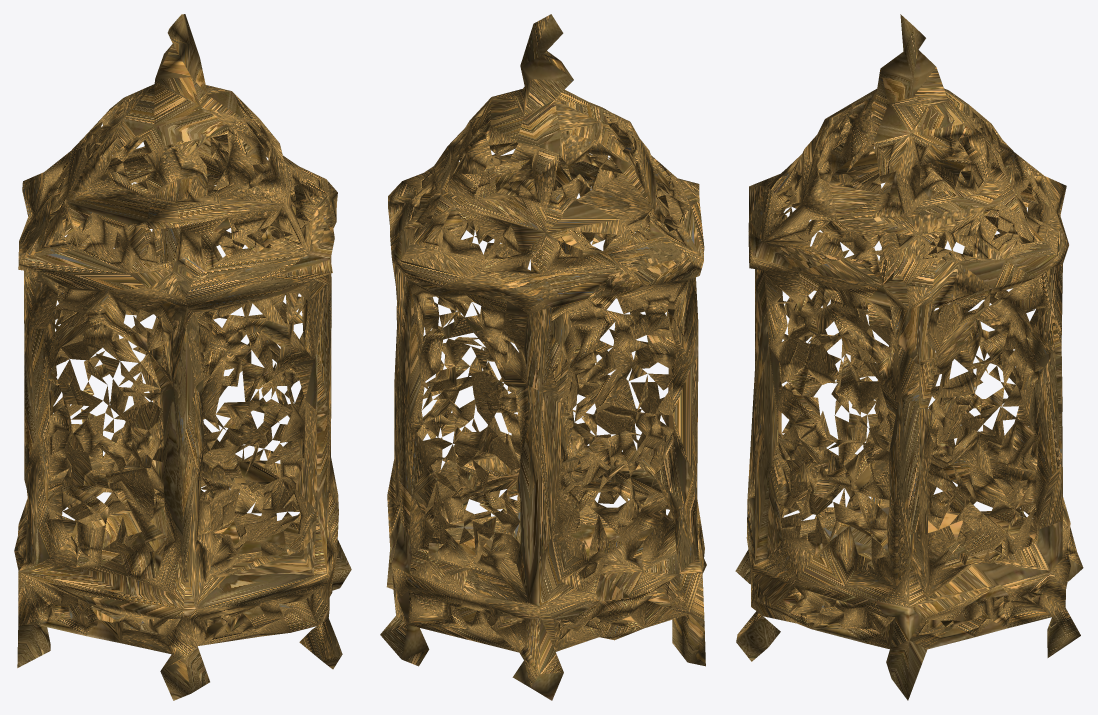
The model's file is lantern.glb.
The picture shows the model from 3 angles, left to right: view 1: azimuth 30°, elevation 25°; view 2: azimuth 150°, elevation 25°; view 3: azimuth 270°, elevation 25°; orthographic projection.
Parts seen in each view (by area): view 1: Mesh_0; view 2: Mesh_0; view 3: Mesh_0.
Boxes of the visible parts, x1,y1,x2,y2 form: Mesh_0: (14, 14, 351, 700); Mesh_0: (380, 14, 706, 700); Mesh_0: (735, 14, 1083, 700).
Size of the model in its own units: 0.5907 by 1.07 by 0.553.
Materials: 1 (1 with a texture image).
